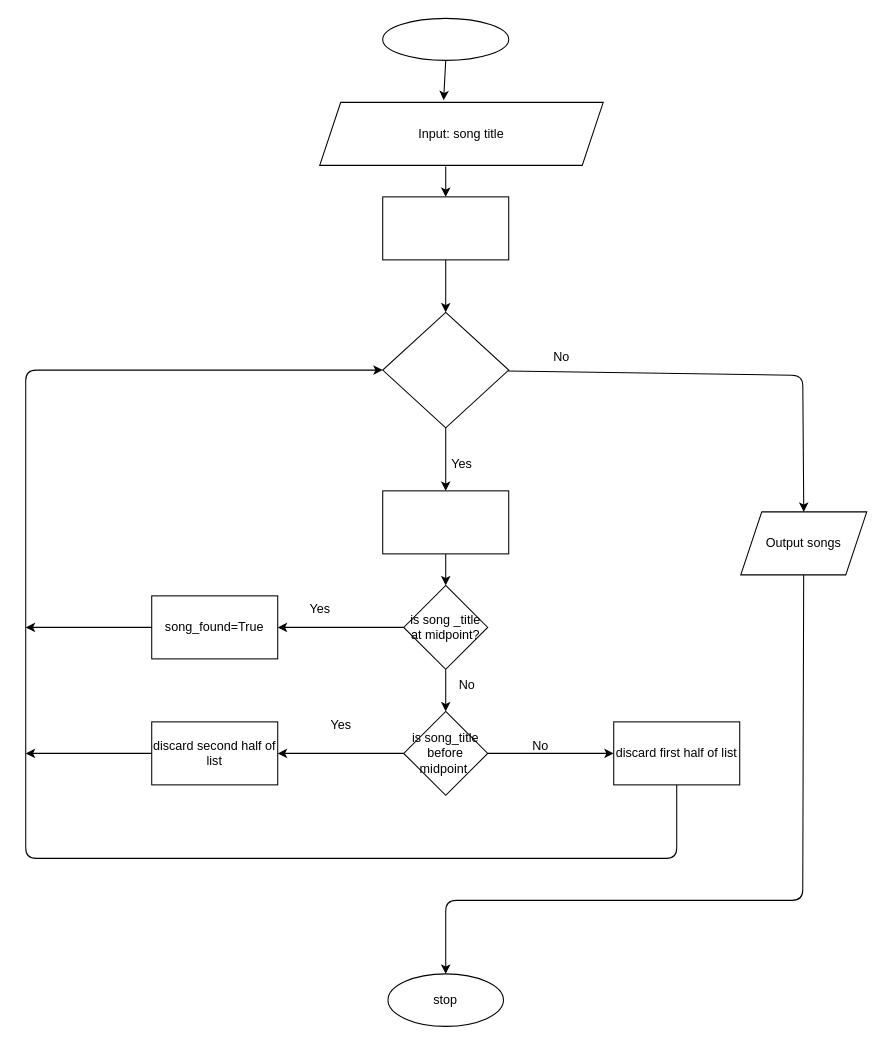
Image size: 885x1045. Some labels were removed from this diagram. The centre of each missing label's shape, as x and y in pixels:
does user found_song = false?: the point at 445,369
find midpoint of song list: the point at 445,522
soung_found=false: the point at 445,228
Start: the point at 445,38
